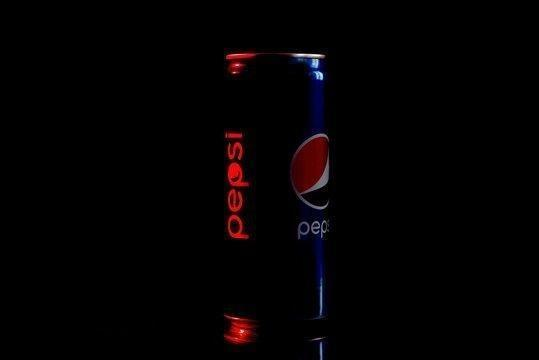tin can: (213, 48, 333, 344)
